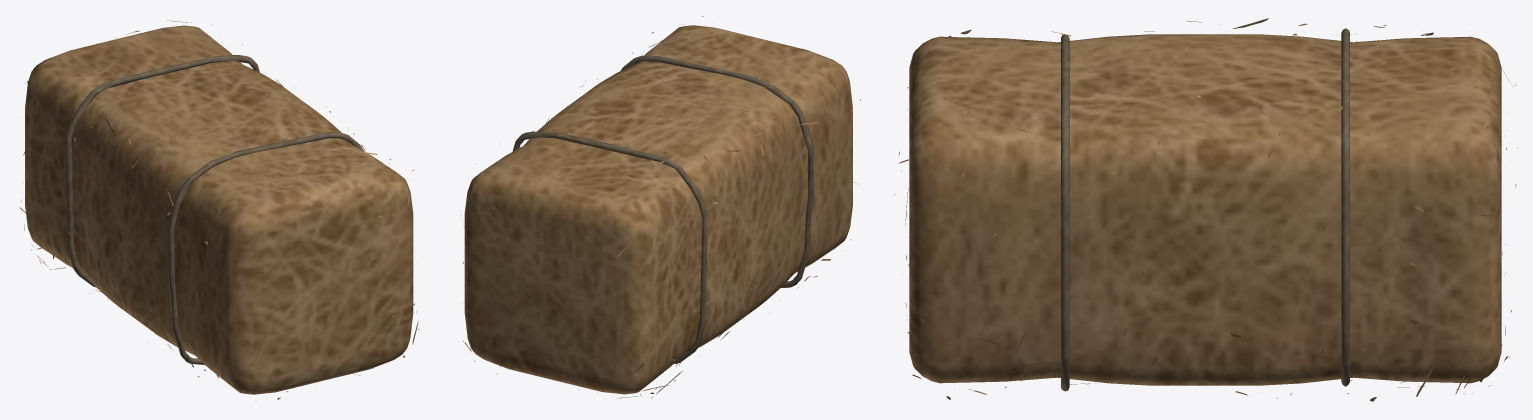
The model's file is hay_bale.glb.
3 renders of one model, left to right at view 1: azimuth 30°, elevation 25°; view 2: azimuth 150°, elevation 25°; view 3: azimuth 270°, elevation 25°, orthographic. The views are drawn at different scales.
Parts seen in each view (by area): view 1: Hay_bale_latest:Hay_Hay_bale_latest:Hay_bale1_0; view 2: Hay_bale_latest:Hay_Hay_bale_latest:Hay_bale1_0; view 3: Hay_bale_latest:Hay_Hay_bale_latest:Hay_bale1_0.
Part boxes in pixels (x1,y1,x2,y2): Hay_bale_latest:Hay_Hay_bale_latest:Hay_bale1_0: (19,20,419,399); Hay_bale_latest:Hay_Hay_bale_latest:Hay_bale1_0: (461,16,860,398); Hay_bale_latest:Hay_Hay_bale_latest:Hay_bale1_0: (895,18,1517,401).
Bounding box in the file's own units: 0.9778 × 0.9708 × 1.79.
Materials: 1 (1 with a texture image).
